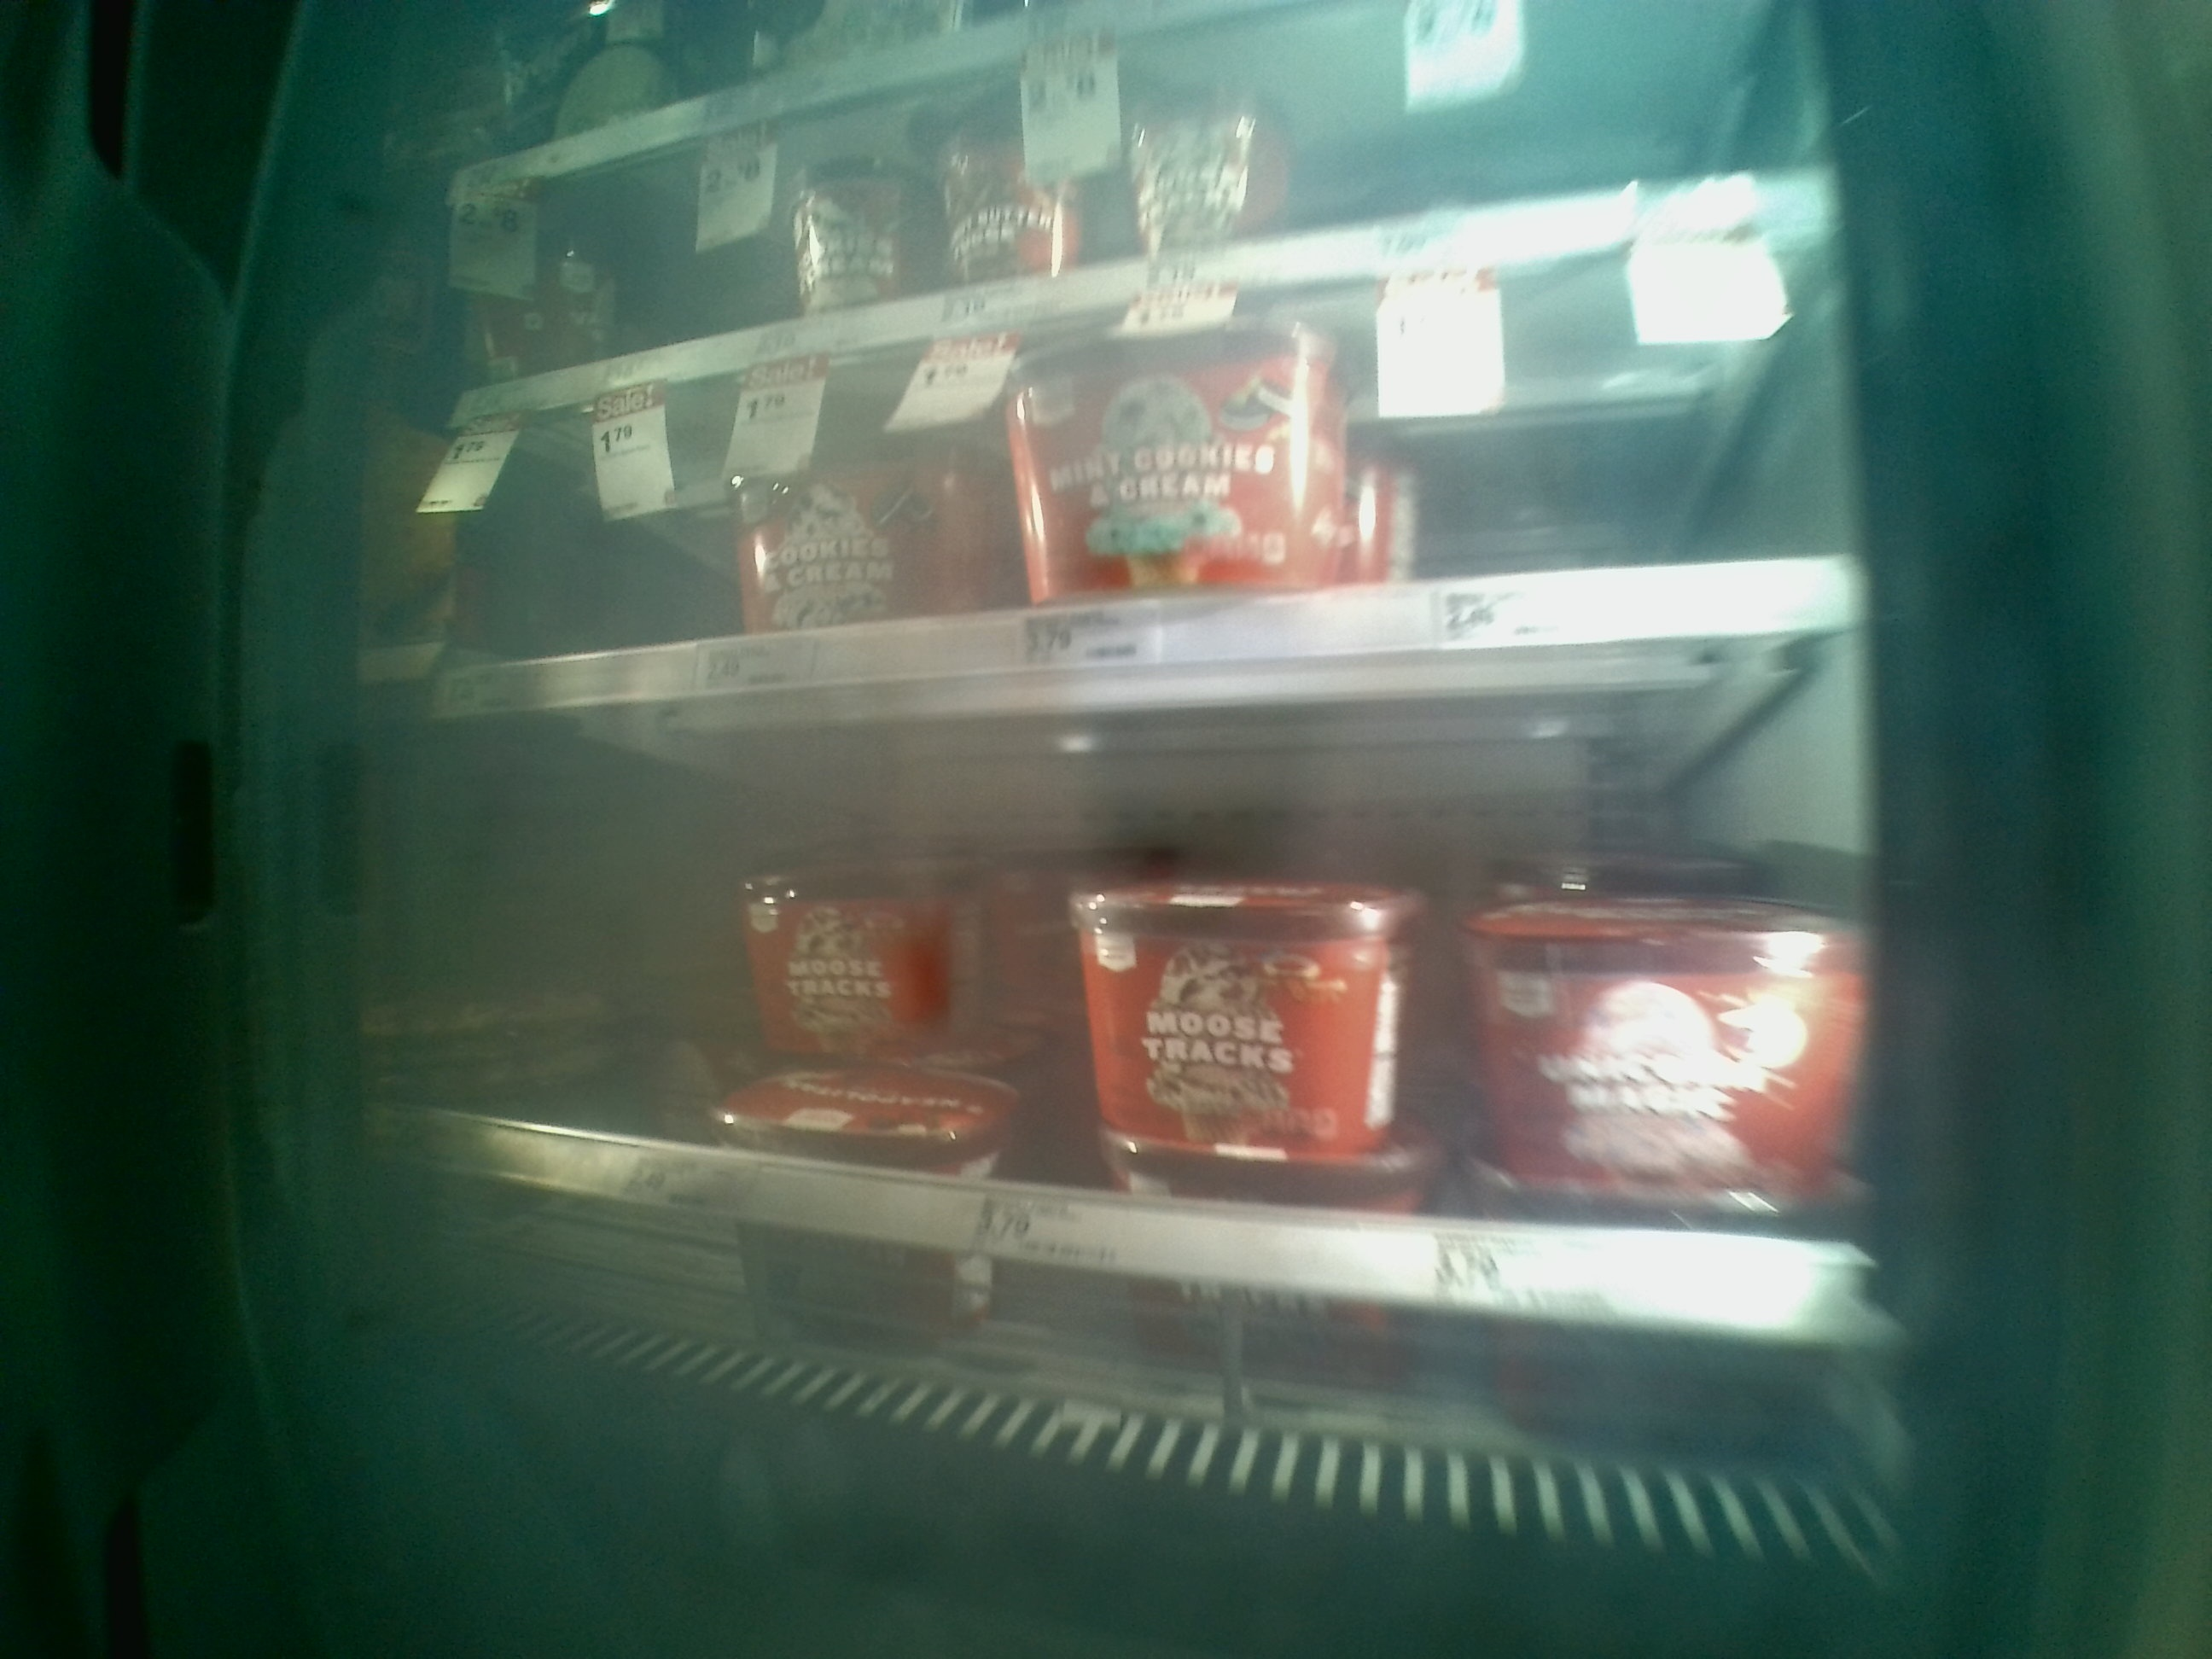ice-cream-shelf: (425, 713, 1867, 1324)
